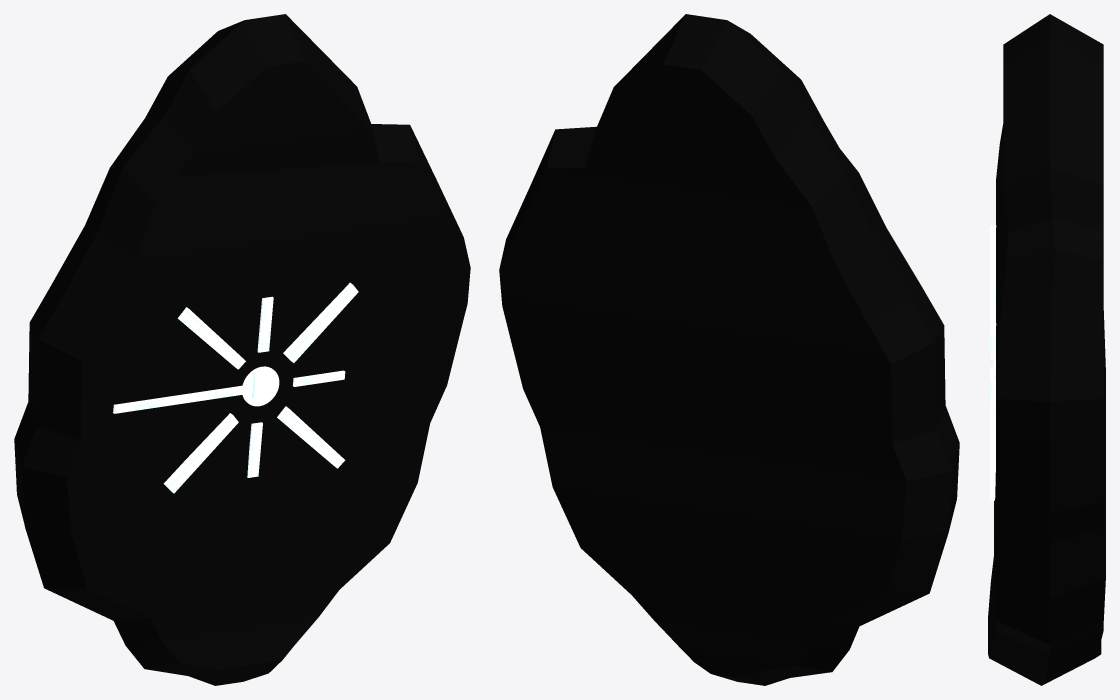
File: beam.fbx
3 renders of one model, left to right at view 1: azimuth 30°, elevation 25°; view 2: azimuth 150°, elevation 25°; view 3: azimuth 270°, elevation 25°, orthographic. The views are drawn at different scales.
Visible parts, largest first — view 1: runa, Cube.001; view 2: runa; view 3: runa, Cube.001.
Part boxes in pixels (x1,y1,x2,y2): runa: [14, 14, 470, 685]; Cube.001: [113, 282, 358, 493]; runa: [499, 14, 959, 685]; runa: [988, 14, 1105, 685]; Cube.001: [990, 225, 996, 500].
Bounding box in the file's own units: 121 × 171 × 27.1.
